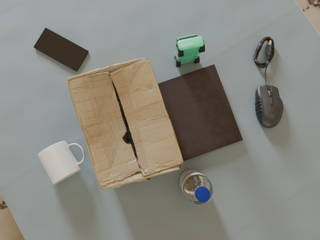book: (158, 64, 243, 161)
bottle: (179, 169, 214, 205)
box: (67, 58, 184, 190)
cup: (38, 141, 85, 185)
mouse: (255, 83, 283, 128)
phone: (34, 28, 88, 71)
toy_car: (175, 34, 205, 67)
